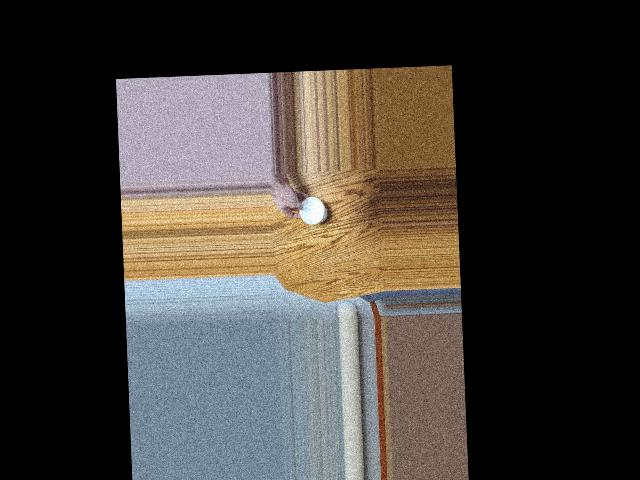cotage: (297, 196, 329, 229)
